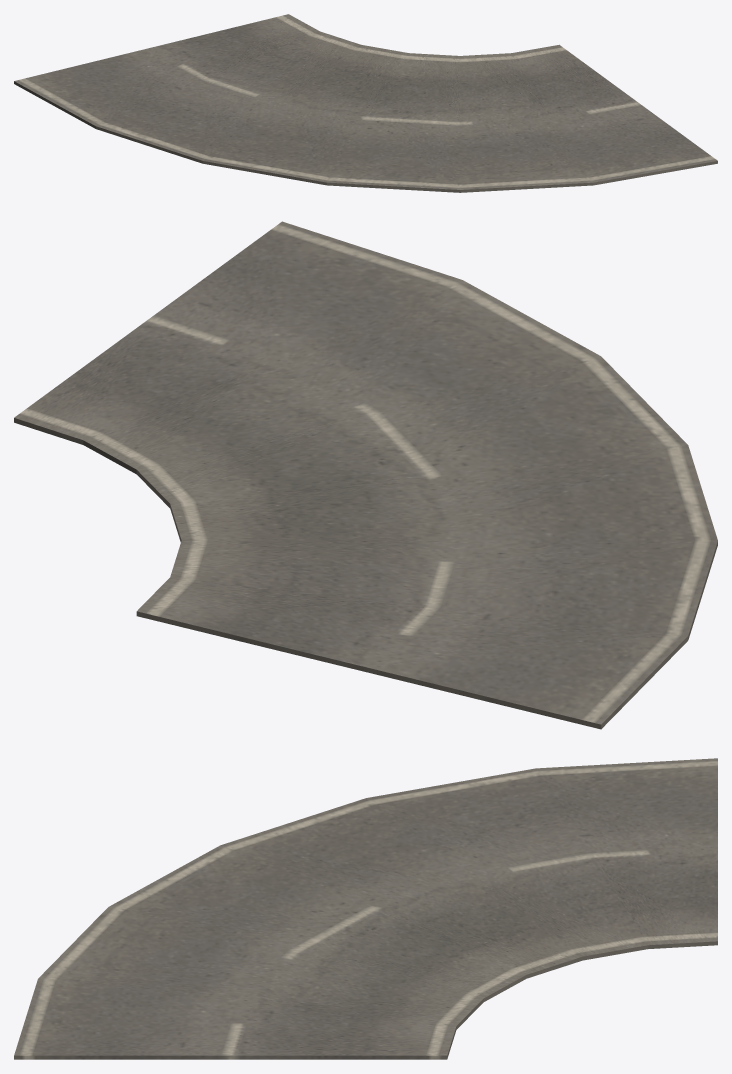
Rendered from Urban_Road4LongCornerNoSides_Model.fbx.
3 renders of one model, top to bottom at view 1: azimuth 30°, elevation 25°; view 2: azimuth 150°, elevation 25°; view 3: azimuth 270°, elevation 25°, orthographic. The views are drawn at different scales.
Visible parts, largest first — view 1: Urban_Road4LongCornerNoSides_Mesh; view 2: Urban_Road4LongCornerNoSides_Mesh; view 3: Urban_Road4LongCornerNoSides_Mesh.
Part boxes in pixels (x1,y1,x2,y2): Urban_Road4LongCornerNoSides_Mesh: (14, 14, 717, 192); Urban_Road4LongCornerNoSides_Mesh: (14, 221, 717, 729); Urban_Road4LongCornerNoSides_Mesh: (14, 758, 717, 1059).
Size of the model in its own units: 26 by 0.16 by 26.
